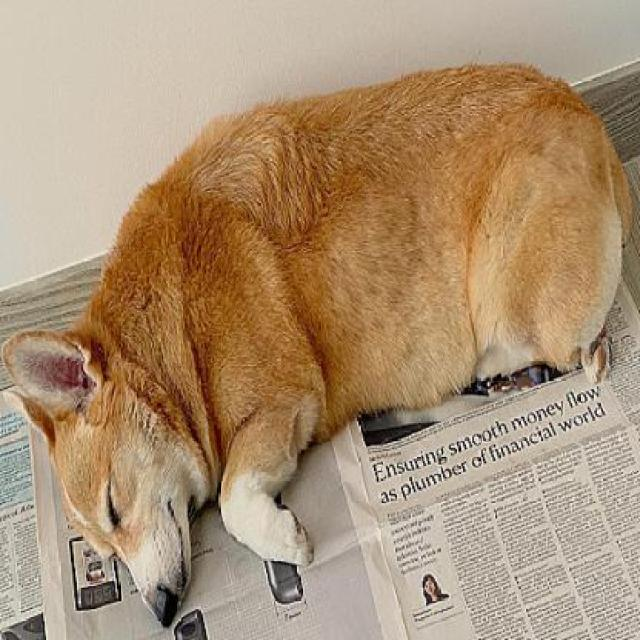Dog: (4, 62, 638, 629)
